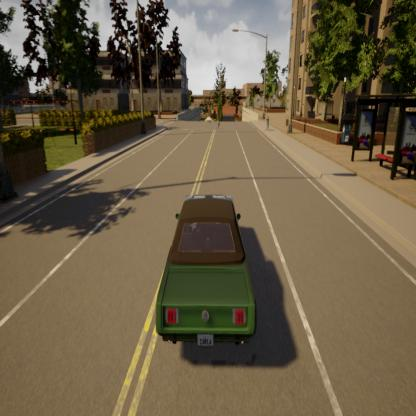Cars: (142, 153, 284, 394)
